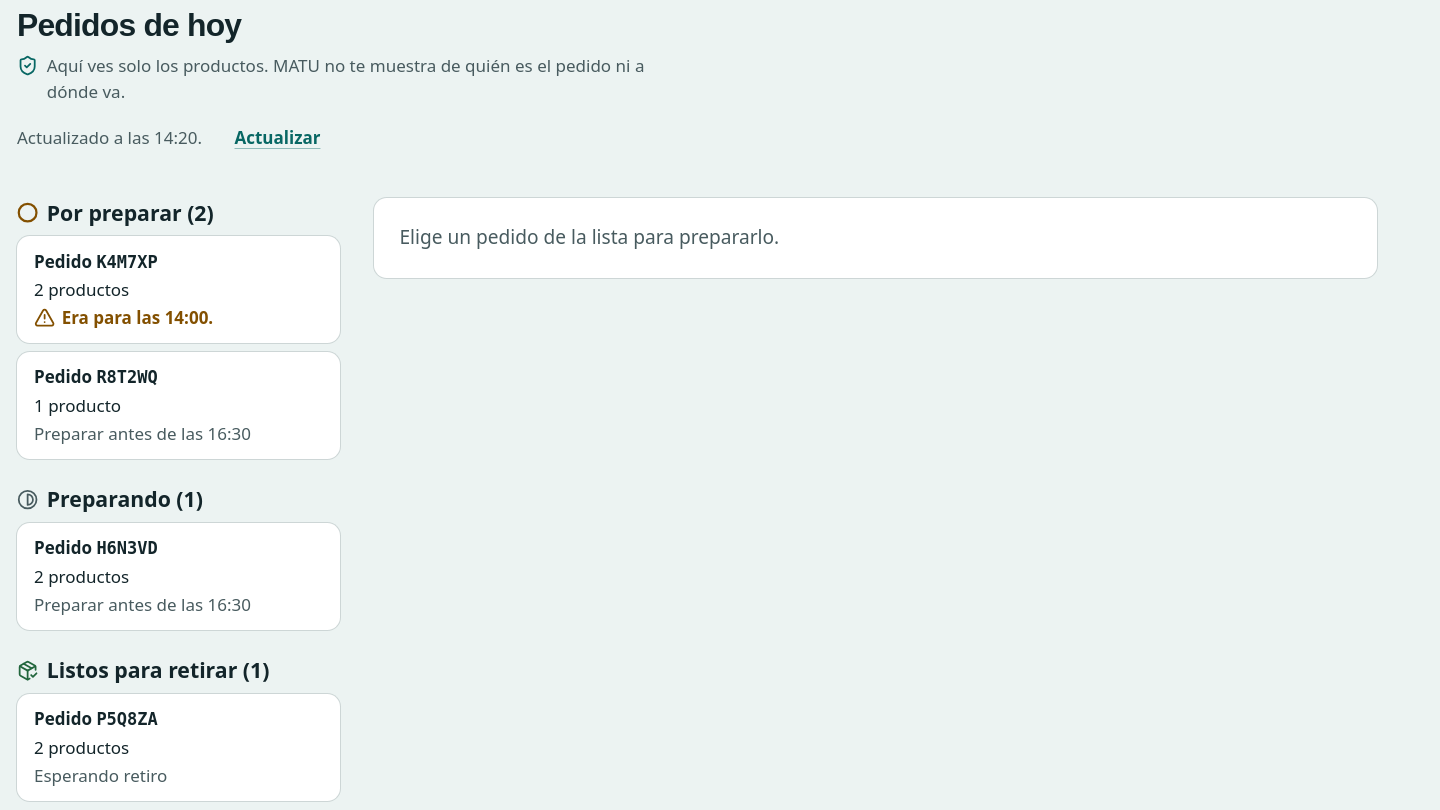
it: Por preparar › red al empezar: el mensaje sobre el botón, que sigue
(page scrolled)
expect the heading "Por preparar (2)" is shown: met, box [47,198,214,226]
Click the button "Pedido R8T2WQ 1 producto Preparar antes de las 16:30" at (63, 377), box [17,352,340,459]
(page scrolled)
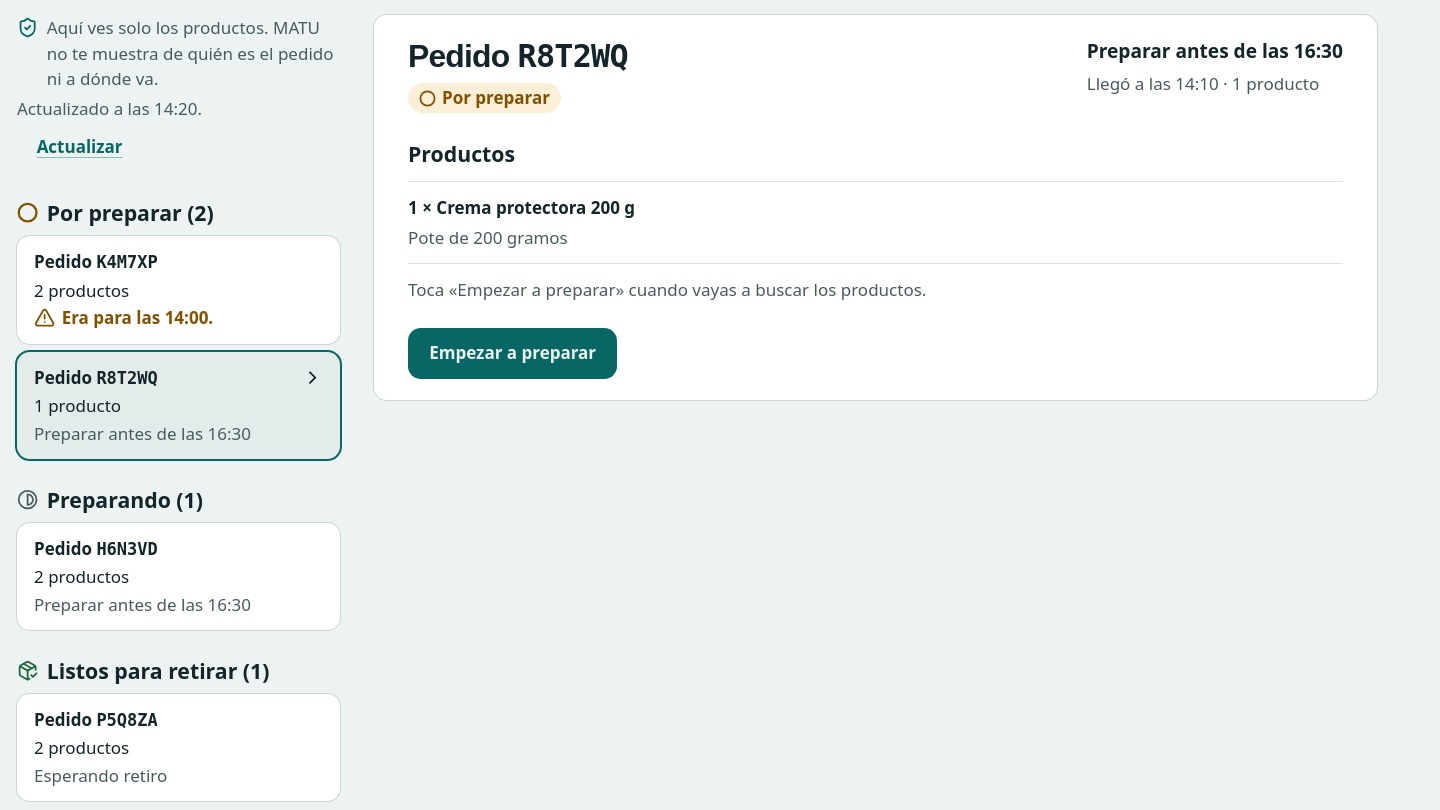
Click the button "Empezar a preparar" at (513, 353), box [408,328,617,378]
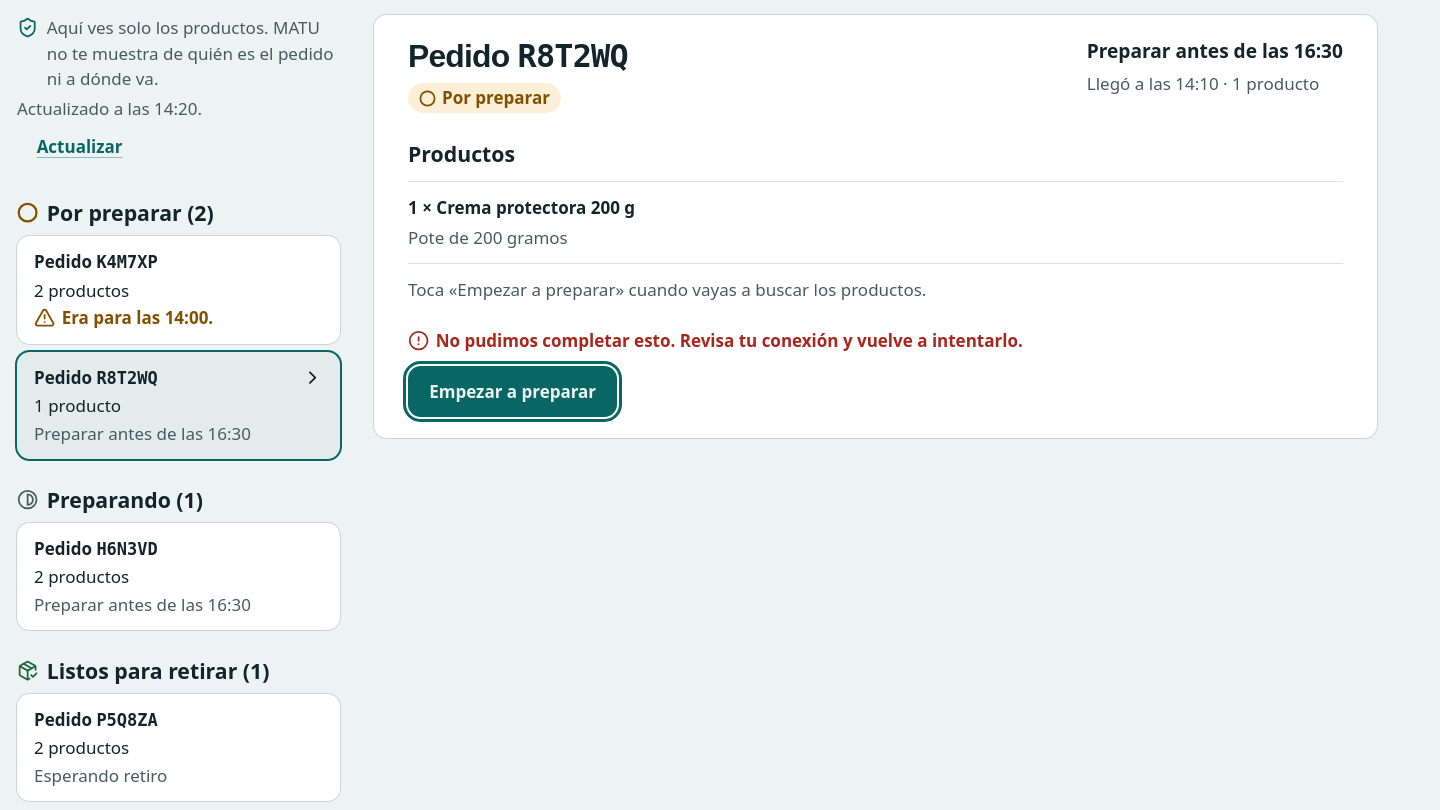
expect the button "Empezar a preparar" is shown: met, box [408,366,617,417]
expect the text "No pudimos completar esto. Revisa tu conexión y vuelve a intentarlo." is shown: met, box [436,328,1023,353]
